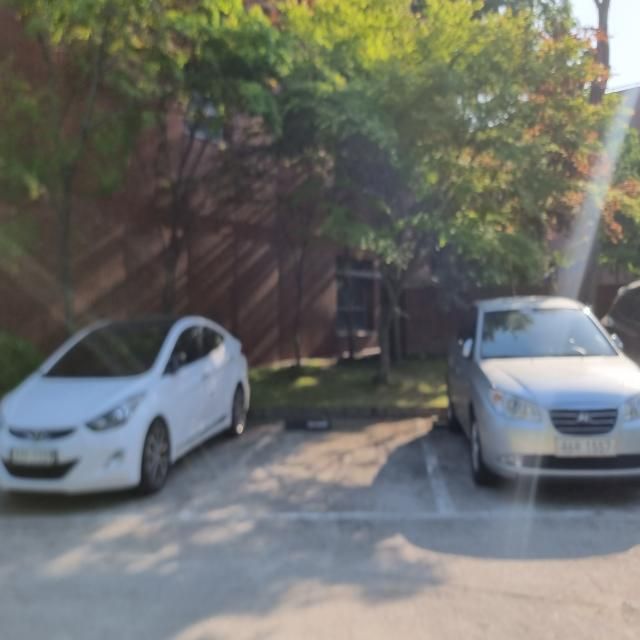empty: (179, 403, 450, 510)
occupied: (0, 320, 242, 499), (446, 298, 640, 491)
